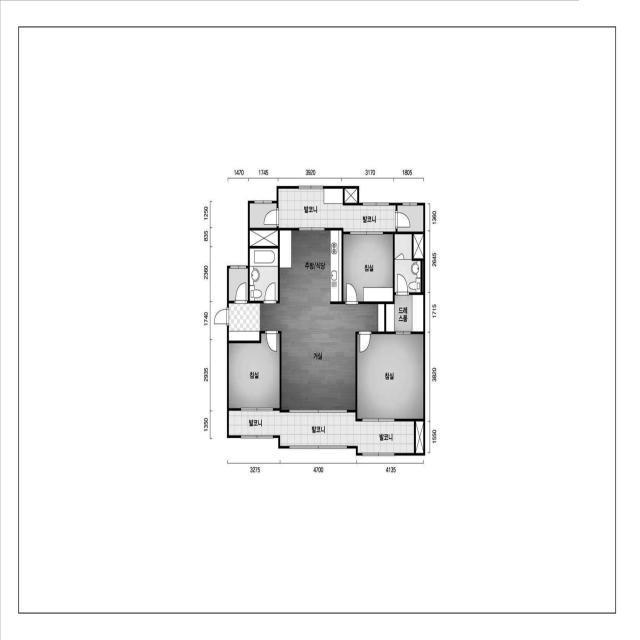background: (0, 0, 640, 640)
space_balconi: (229, 410, 414, 453), (278, 188, 396, 232)
space_bedroom: (357, 334, 423, 419), (229, 333, 280, 408), (343, 234, 393, 302)
space_dressroom: (386, 295, 423, 332)
space_front: (229, 303, 260, 341)
space_kitchen: (280, 230, 342, 304)
space_other: (397, 205, 423, 232), (250, 203, 277, 228), (229, 268, 248, 301), (250, 230, 278, 246), (413, 234, 423, 259), (416, 421, 423, 453), (344, 189, 357, 203), (422, 261, 423, 292)
space_toilet: (394, 234, 421, 293), (250, 248, 278, 301)
